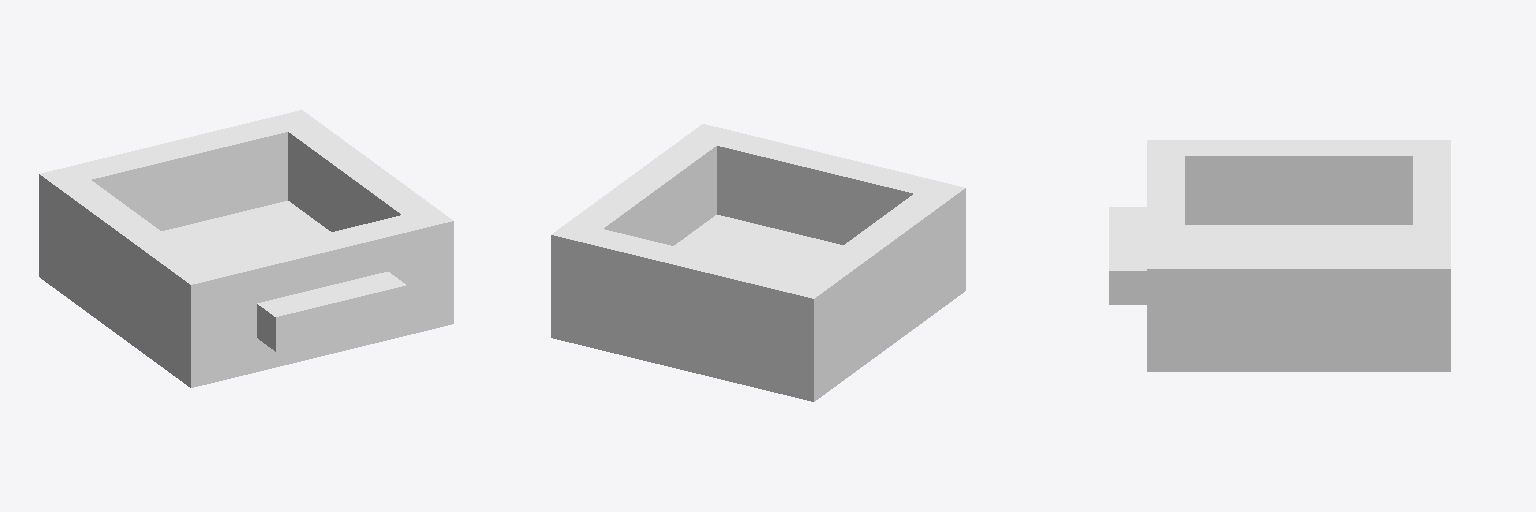
File: DeskUpperCornerDrawer.obj
3 views of the same model, side by side, from view 1: azimuth 30°, elevation 25°; view 2: azimuth 150°, elevation 25°; view 3: azimuth 270°, elevation 25° (orthographic).
Bounding box in the file's own units: 8 × 3 × 9.